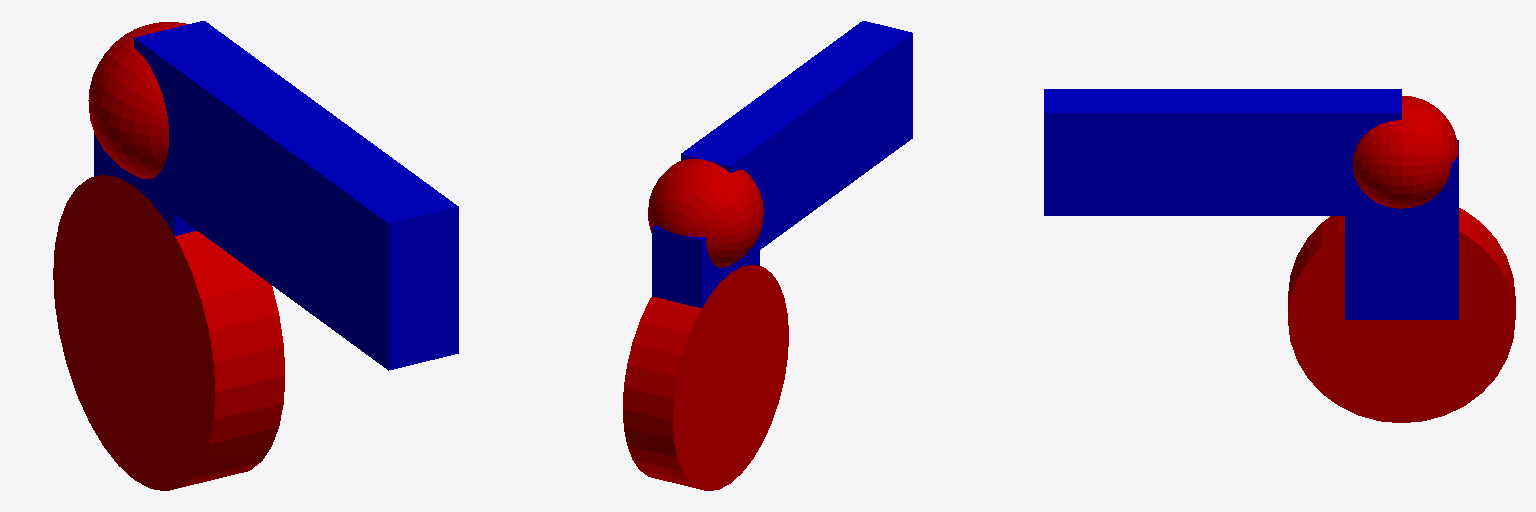
robot.urdf — TwoLinkStruct9238128579:
<?xml version="1.0"?>
<robot  name="TwoLinkStruct9238128579" >
 <material  name="blue" >
  <color  rgba="0 0 0.8 1.0" />
 </material>
 <material  name="red" >
  <color  rgba="0.8 0 0 1.0" />
 </material>
 <link  name="base_link" >
  <visual >
   <origin  rpy="0 1.5707 0"  xyz="0 0 0" />
   <material  name="red" />
   <geometry >
    <cylinder  length="0.05"  radius="0.1" />
   </geometry>
  </visual>
 </link>
 <joint  type="revolute"  name="joint1" >
  <parent  link="base_link" />
  <child  link="link1" />
  <origin  xyz="0 0 0"  rpy="0 0 0" />
  <axis  xyz="1 0 0" />
 </joint>
 <link  name="link1" >
  <inertial >
   <origin  rpy="0 0 0"  xyz="0 0 0.07556633061709817" />
   <mass  value="0.39078365539162596" />
   <inertia  ixy="0.0"  iyy="0.00016282652307984417"  izz="0.0008252400315632277"  ixz="0.0"  ixx="0.0008252400315632277"  iyz="0.0" />
  </inertial>
  <visual >
   <origin  rpy="0 0 0"  xyz="0 0 0.07556633061709817" />
   <material  name="blue" />
   <geometry >
    <box  size="0.05 0.1 0.15113266123419633" />
   </geometry>
  </visual>
 </link>
 <joint  type="fixed"  name="joint-joint-1" >
  <parent  link="link1" />
  <child  link="joint-link-1" />
  <origin  xyz="0 0 0.15113266123419633"  rpy="1.5707 0 0" />
  <axis  xyz="1 0 0" />
 </joint>
 <link  name="joint-link-1" >
  <inertial >
   <origin  rpy="0 0 0"  xyz="0 0 0" />
   <mass  value="0.001" />
   <inertia  ixy="0"  iyy="0"  izz="0"  ixz="0"  ixx="0"  iyz="0" />
  </inertial>
  <visual >
   <origin  rpy="0 0 0"  xyz="0 0 0" />
   <material  name="red" />
   <geometry >
    <sphere  radius="0.05" />
   </geometry>
  </visual>
 </link>
 <joint  type="revolute"  name="joint2" >
  <parent  link="link1" />
  <child  link="link2" />
  <origin  xyz="0 0 0.15113266123419633"  rpy="1.5707 0 0" />
  <axis  xyz="1 0 0" />
 </joint>
 <link  name="link2" >
  <inertial >
   <origin  rpy="0 0 0"  xyz="0 0 0.15694766638320745" />
   <mass  value="0.7851039927255296" />
   <inertia  ixy="0.0"  iyy="0.00016282652307984417"  izz="0.003290081841439714"  ixz="0.0"  ixx="0.003290081841439714"  iyz="0.0" />
  </inertial>
  <visual >
   <origin  rpy="0 0 0"  xyz="0 0 0.15694766638320745" />
   <material  name="blue" />
   <geometry >
    <box  size="0.05 0.1 0.3138953327664149" />
   </geometry>
  </visual>
 </link>
 <joint  type="fixed"  name="eef_joint" >
  <parent  link="link2" />
  <child  link="eef" />
  <origin  xyz="0 0 0.3138953327664149"  rpy="0 0 0" />
 </joint>
 <link  name="eef" >
  <inertial >
   <origin  rpy="0 0 0"  xyz="0 0 0" />
   <mass  value="1" />
   <inertia  ixy="0"  iyy="0"  izz="0"  ixz="0"  ixx="0"  iyz="0" />
  </inertial>
 </link>
 <transmission  name="motor1" >
  <type  xmltext="SimpleTransmission" >
   SimpleTransmission
  </type>
  <actuator  name="motor1" >
   <mechanicalreduction  xmltext="1" >
    1
   </mechanicalreduction>
  </actuator>
  <joint  name="joint1" />
 </transmission>
 <transmission  name="motor2" >
  <type  xmltext="SimpleTransmission" >
   SimpleTransmission
  </type>
  <actuator  name="motor2" >
   <mechanicalreduction  xmltext="1" >
    1
   </mechanicalreduction>
  </actuator>
  <joint  name="joint2" />
 </transmission>
</robot>

<!-- {'carti': array([-0.1 ,  0.14,  0.85]), 'cartd': array([-0.1 ,  0.32,  1.29]), 'tau_mu': 0.08465799400906357, 'b0': 0.14252990861129947, 'Km': 0.0, 'k_velocity': 4.024975269074105, 'tau_max_m': 3.4048802663716677, 'omega_max_m': 1000.0, 'gear_ratio': 4.975407853788311, 'Kp': 100.0, 'Kd': 48.14058872437242, 'm_m': 0.001, 'l1': 0.15113266123419633, 'l2': 0.3138953327664149, 'k1': 30900.0, 'k2': 379000000.0, 'k3': 379000000.0}-->

--- Render facts (derived) ---
Views: 3 orthographic renders of the robot side by side, from view 1: azimuth 30°, elevation 25°; view 2: azimuth 150°, elevation 25°; view 3: azimuth 270°, elevation 25°.
Robot: TwoLinkStruct9238128579 — 5 links, 4 joints (2 revolute, 2 fixed); root link base_link; default pose: all joints at 0.
Visible links, largest first — view 1: link2, base_link, joint-link-1, link1; view 2: base_link, link2, joint-link-1, link1; view 3: link2, base_link, link1, joint-link-1.
Link boxes in pixels (left/top/right/bottom): link2: left=134, top=21, right=458, bottom=370; base_link: left=53, top=175, right=284, bottom=490; joint-link-1: left=88, top=22, right=187, bottom=178; link1: left=94, top=133, right=196, bottom=235; base_link: left=623, top=265, right=788, bottom=490; link2: left=681, top=21, right=912, bottom=270; joint-link-1: left=648, top=159, right=763, bottom=267; link1: left=652, top=225, right=759, bottom=307; link2: left=1044, top=89, right=1401, bottom=215; base_link: left=1288, top=208, right=1515, bottom=422; link1: left=1345, top=140, right=1458, bottom=319; joint-link-1: left=1353, top=96, right=1458, bottom=208.
Size in the robot's own frame: 0.1 by 0.4139 by 0.3012 metres.
Geometry: primitives only (box / cylinder / sphere), no mesh files.
